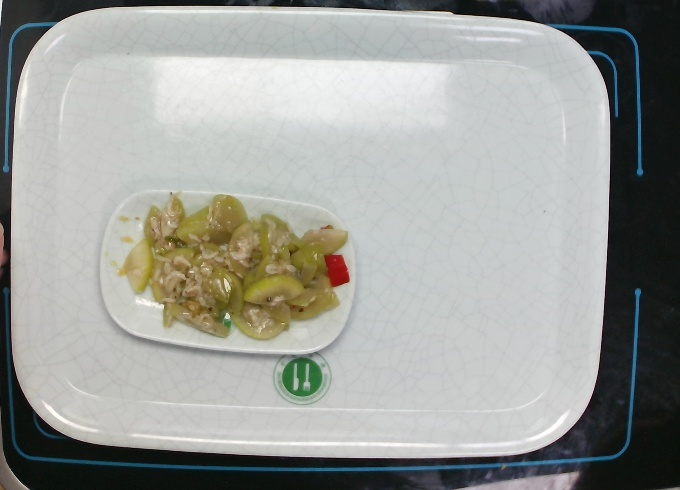WCQzf-Tuo_Yuan_Pan: (95, 184, 361, 363)
